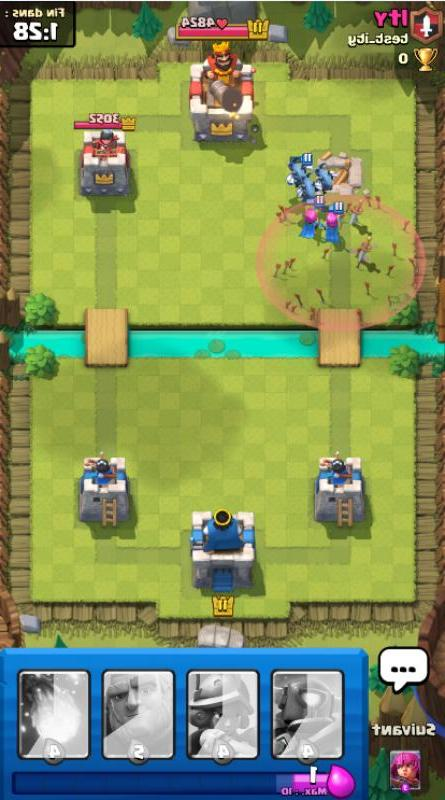archere: (299, 195, 326, 239), (320, 201, 344, 246)
gargouille: (285, 153, 313, 186), (314, 162, 338, 194), (297, 172, 322, 199)
